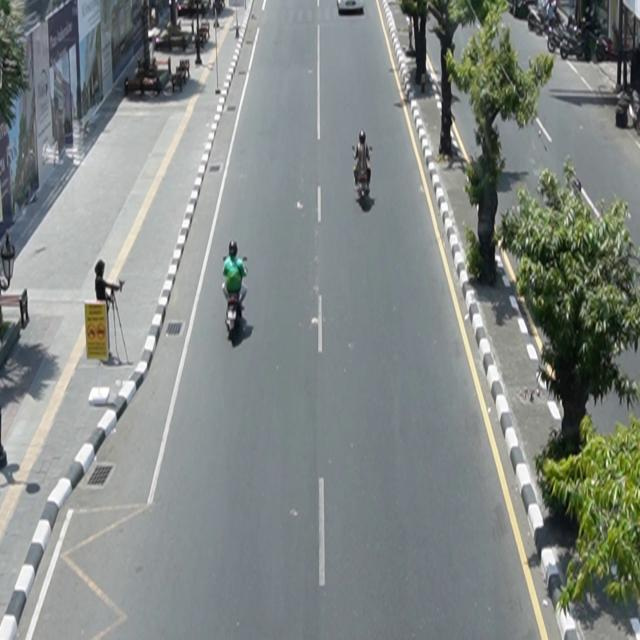car: (338, 1, 365, 14)
